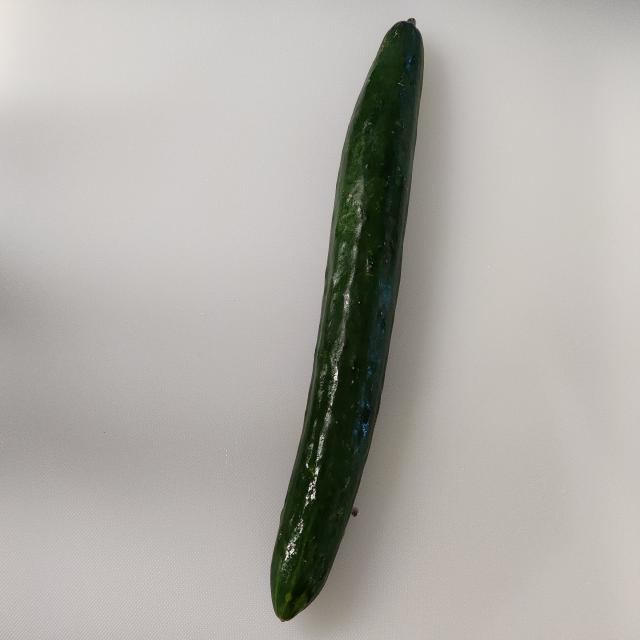cucumber: (269, 16, 425, 621)
